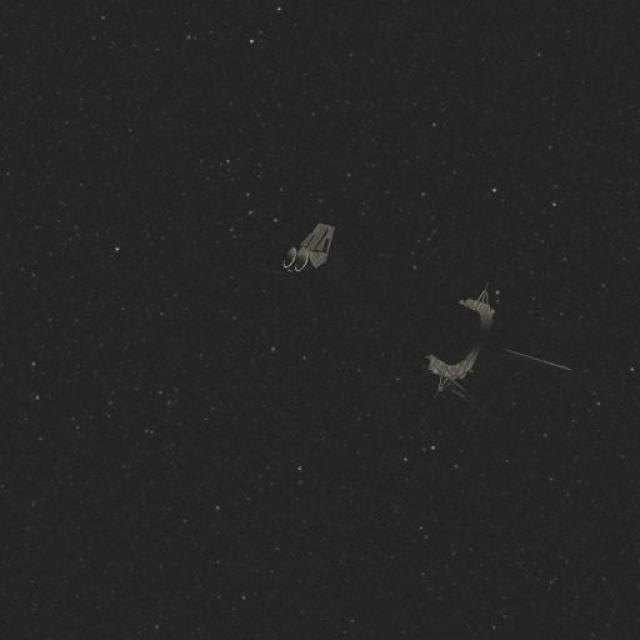xmm_newton: (275, 209, 518, 384)
